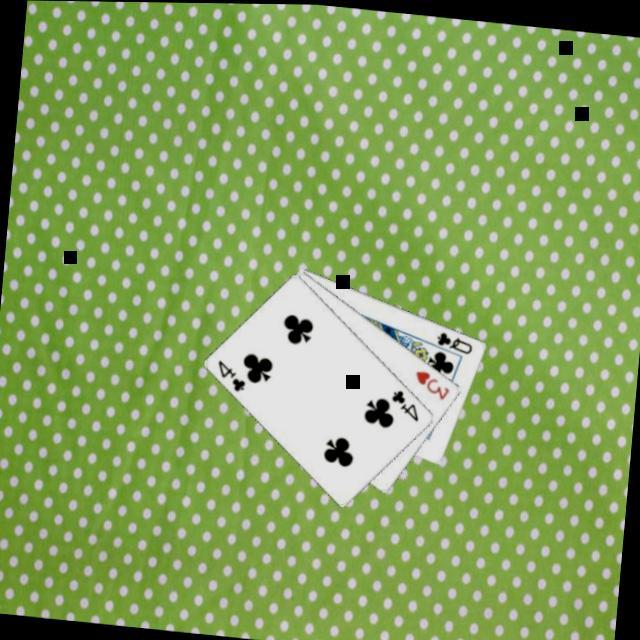3H: (408, 366, 452, 403)
4C: (385, 384, 422, 424), (212, 356, 248, 395)
QC: (431, 326, 475, 356)
